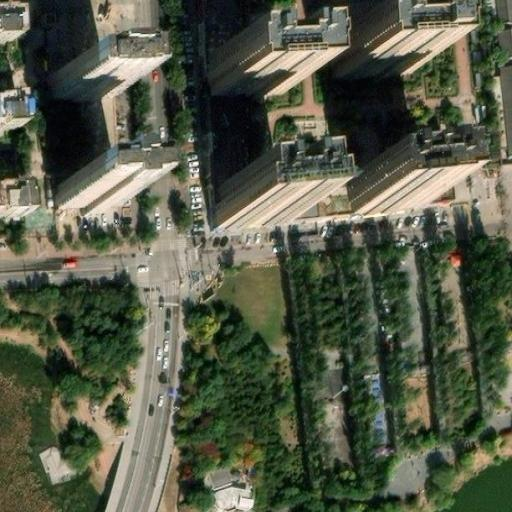building: (336, 44, 418, 91), (489, 0, 512, 163), (207, 60, 290, 105), (215, 190, 285, 239), (352, 182, 426, 227), (31, 441, 74, 489), (53, 190, 116, 219), (48, 79, 104, 108), (209, 484, 250, 511)
